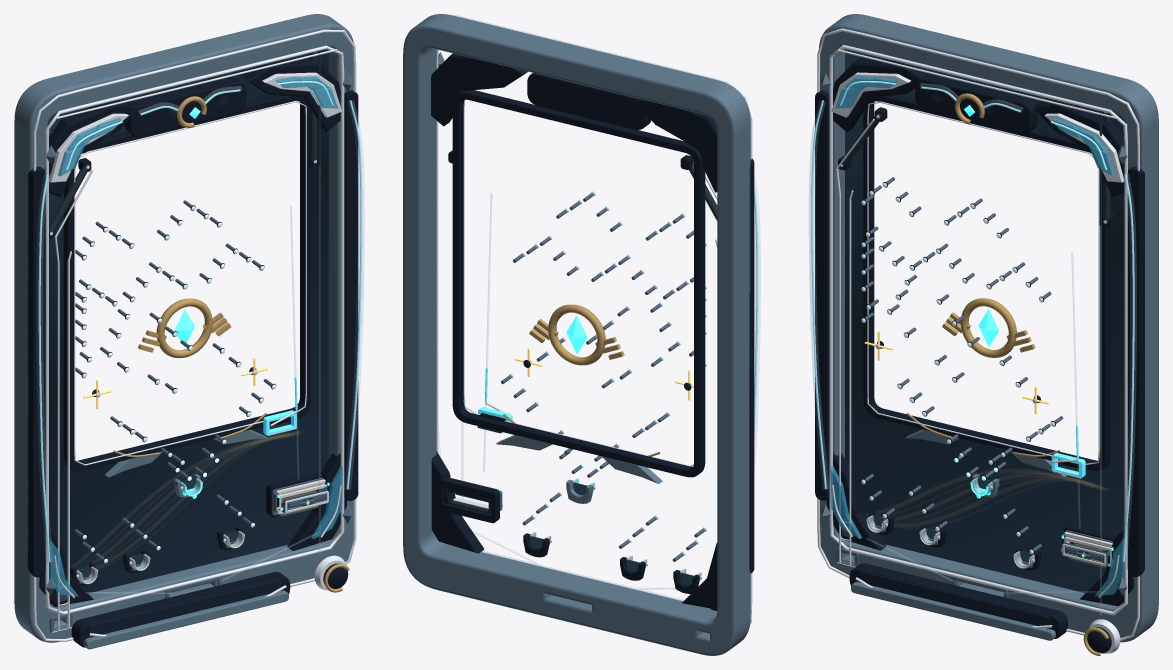
Rendered from course-0.glb.
3 renders of one model, left to right at view 1: azimuth 30°, elevation 25°; view 2: azimuth 150°, elevation 25°; view 3: azimuth 330°, elevation 25°, orthographic. The views are drawn at different scales.
Parts seen in each view (by area): view 1: part-31, part-4, part-42, part-7, part-6, part-11, part-48, part-12, part-8, part-57, part-58, part-59 (+19 smaller); view 2: part-4, part-42, part-48, part-23, part-15, part-7, part-28, part-6, part-8, attacker-housing, part-64, part-20 (+4 smaller); view 3: part-31, part-4, part-42, part-11, part-6, part-7, part-48, part-8, part-12, part-57, part-58, part-59 (+17 smaller).
Boxes of the visible parts, x1,y1,x2,y2 form: part-31: [47, 49, 328, 593]; part-4: [14, 14, 353, 642]; part-42: [63, 95, 310, 471]; part-7: [27, 166, 45, 577]; part-6: [45, 45, 344, 614]; part-11: [344, 90, 358, 500]; part-48: [124, 77, 246, 136]; part-12: [344, 100, 364, 489]; part-8: [36, 174, 52, 562]; part-57: [71, 572, 290, 647]; part-58: [84, 590, 288, 649]; part-59: [89, 580, 281, 636]; part-4: [403, 14, 750, 655]; part-42: [452, 90, 705, 477]; part-48: [527, 73, 651, 129]; part-23: [431, 54, 527, 126]; part-15: [634, 99, 717, 192]; part-7: [749, 158, 754, 573]; part-28: [431, 451, 484, 553]; part-6: [436, 49, 684, 601]; part-8: [754, 176, 760, 470]; attacker-housing: [438, 477, 499, 523]; part-64: [548, 304, 605, 365]; part-20: [682, 543, 717, 609]; part-31: [845, 49, 1124, 602]; part-4: [819, 14, 1158, 642]; part-42: [863, 95, 1110, 470]; part-11: [1127, 166, 1144, 576]; part-6: [829, 45, 1127, 615]; part-7: [815, 90, 829, 500]; part-48: [915, 74, 1037, 134]; part-8: [809, 100, 828, 489]; part-12: [1121, 174, 1136, 562]; part-57: [849, 563, 1067, 638]; part-58: [851, 582, 1055, 640]; part-59: [858, 571, 1050, 625].
Bounding box in the file's own units: 464 × 738 × 75.42.
Materials: 76 (8 with a texture image).
